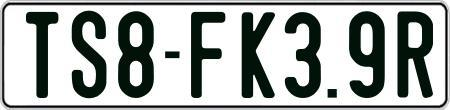3: (285, 10, 324, 98)
8: (116, 8, 154, 98)
9: (346, 10, 385, 103)
F: (190, 12, 224, 100)
K: (242, 12, 276, 103)
R: (398, 10, 437, 100)
S: (71, 9, 110, 100)
T: (26, 10, 60, 101)
